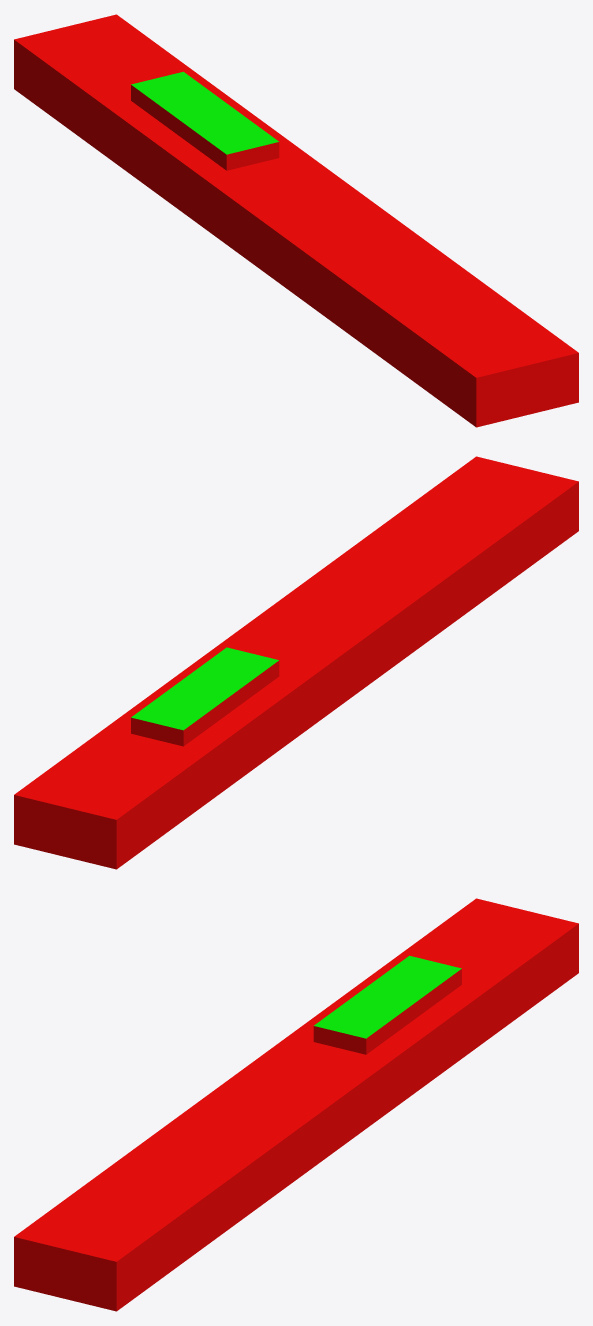
The model's file is labeled.obj.
The picture shows the model from 3 angles, top to bottom: view 1: azimuth 30°, elevation 25°; view 2: azimuth 150°, elevation 25°; view 3: azimuth 330°, elevation 25°; orthographic projection.
Bounding box in the file's own units: 0.0187 × 0.0115 × 0.1462.
